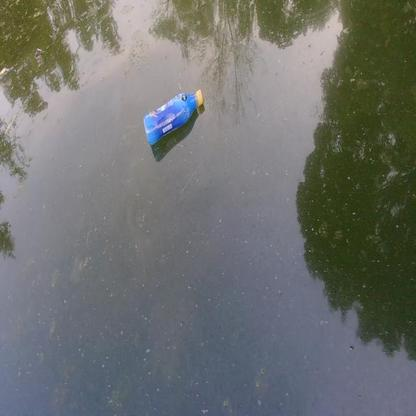plastic bottle: (143, 90, 204, 144)
